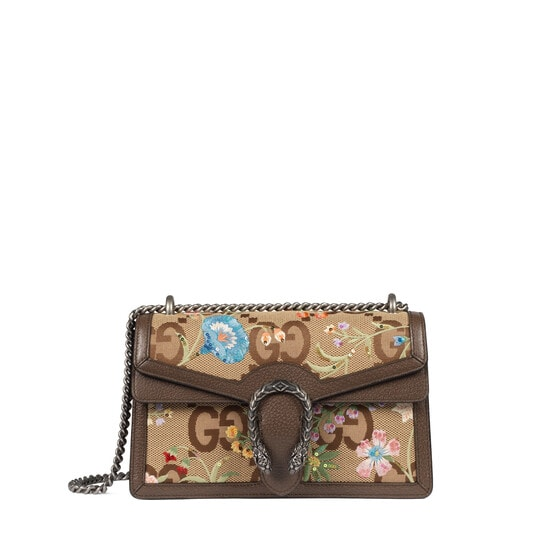Gucci: (89, 274, 466, 527), (244, 316, 324, 376), (179, 404, 249, 459)
